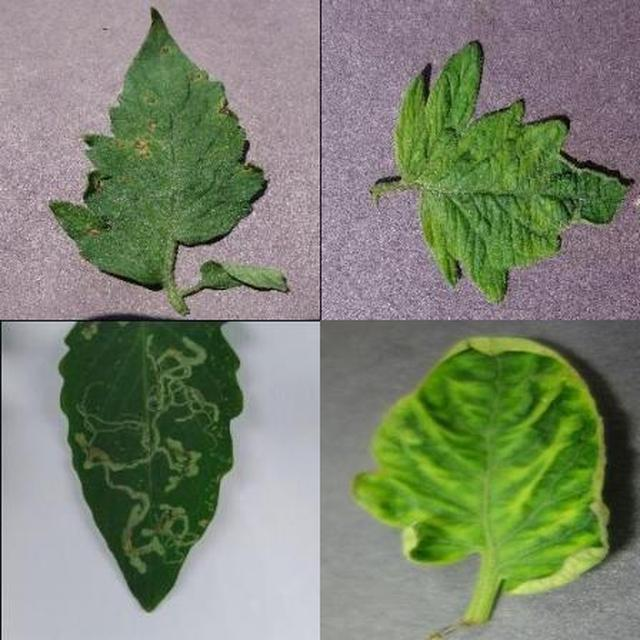Septoria Leaf: (214, 203, 640, 640)
